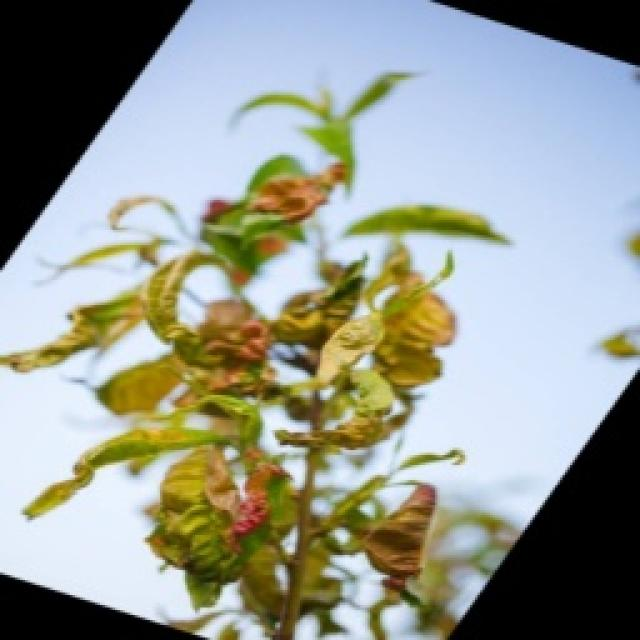Chlorosis: (0, 64, 512, 637)
